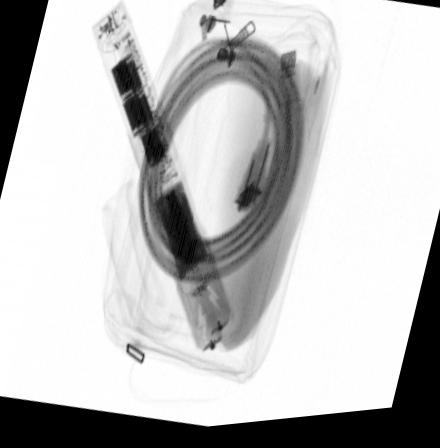Baton: (90, 0, 233, 357)
